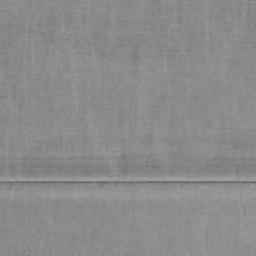Welding line: (0, 179, 256, 186)
